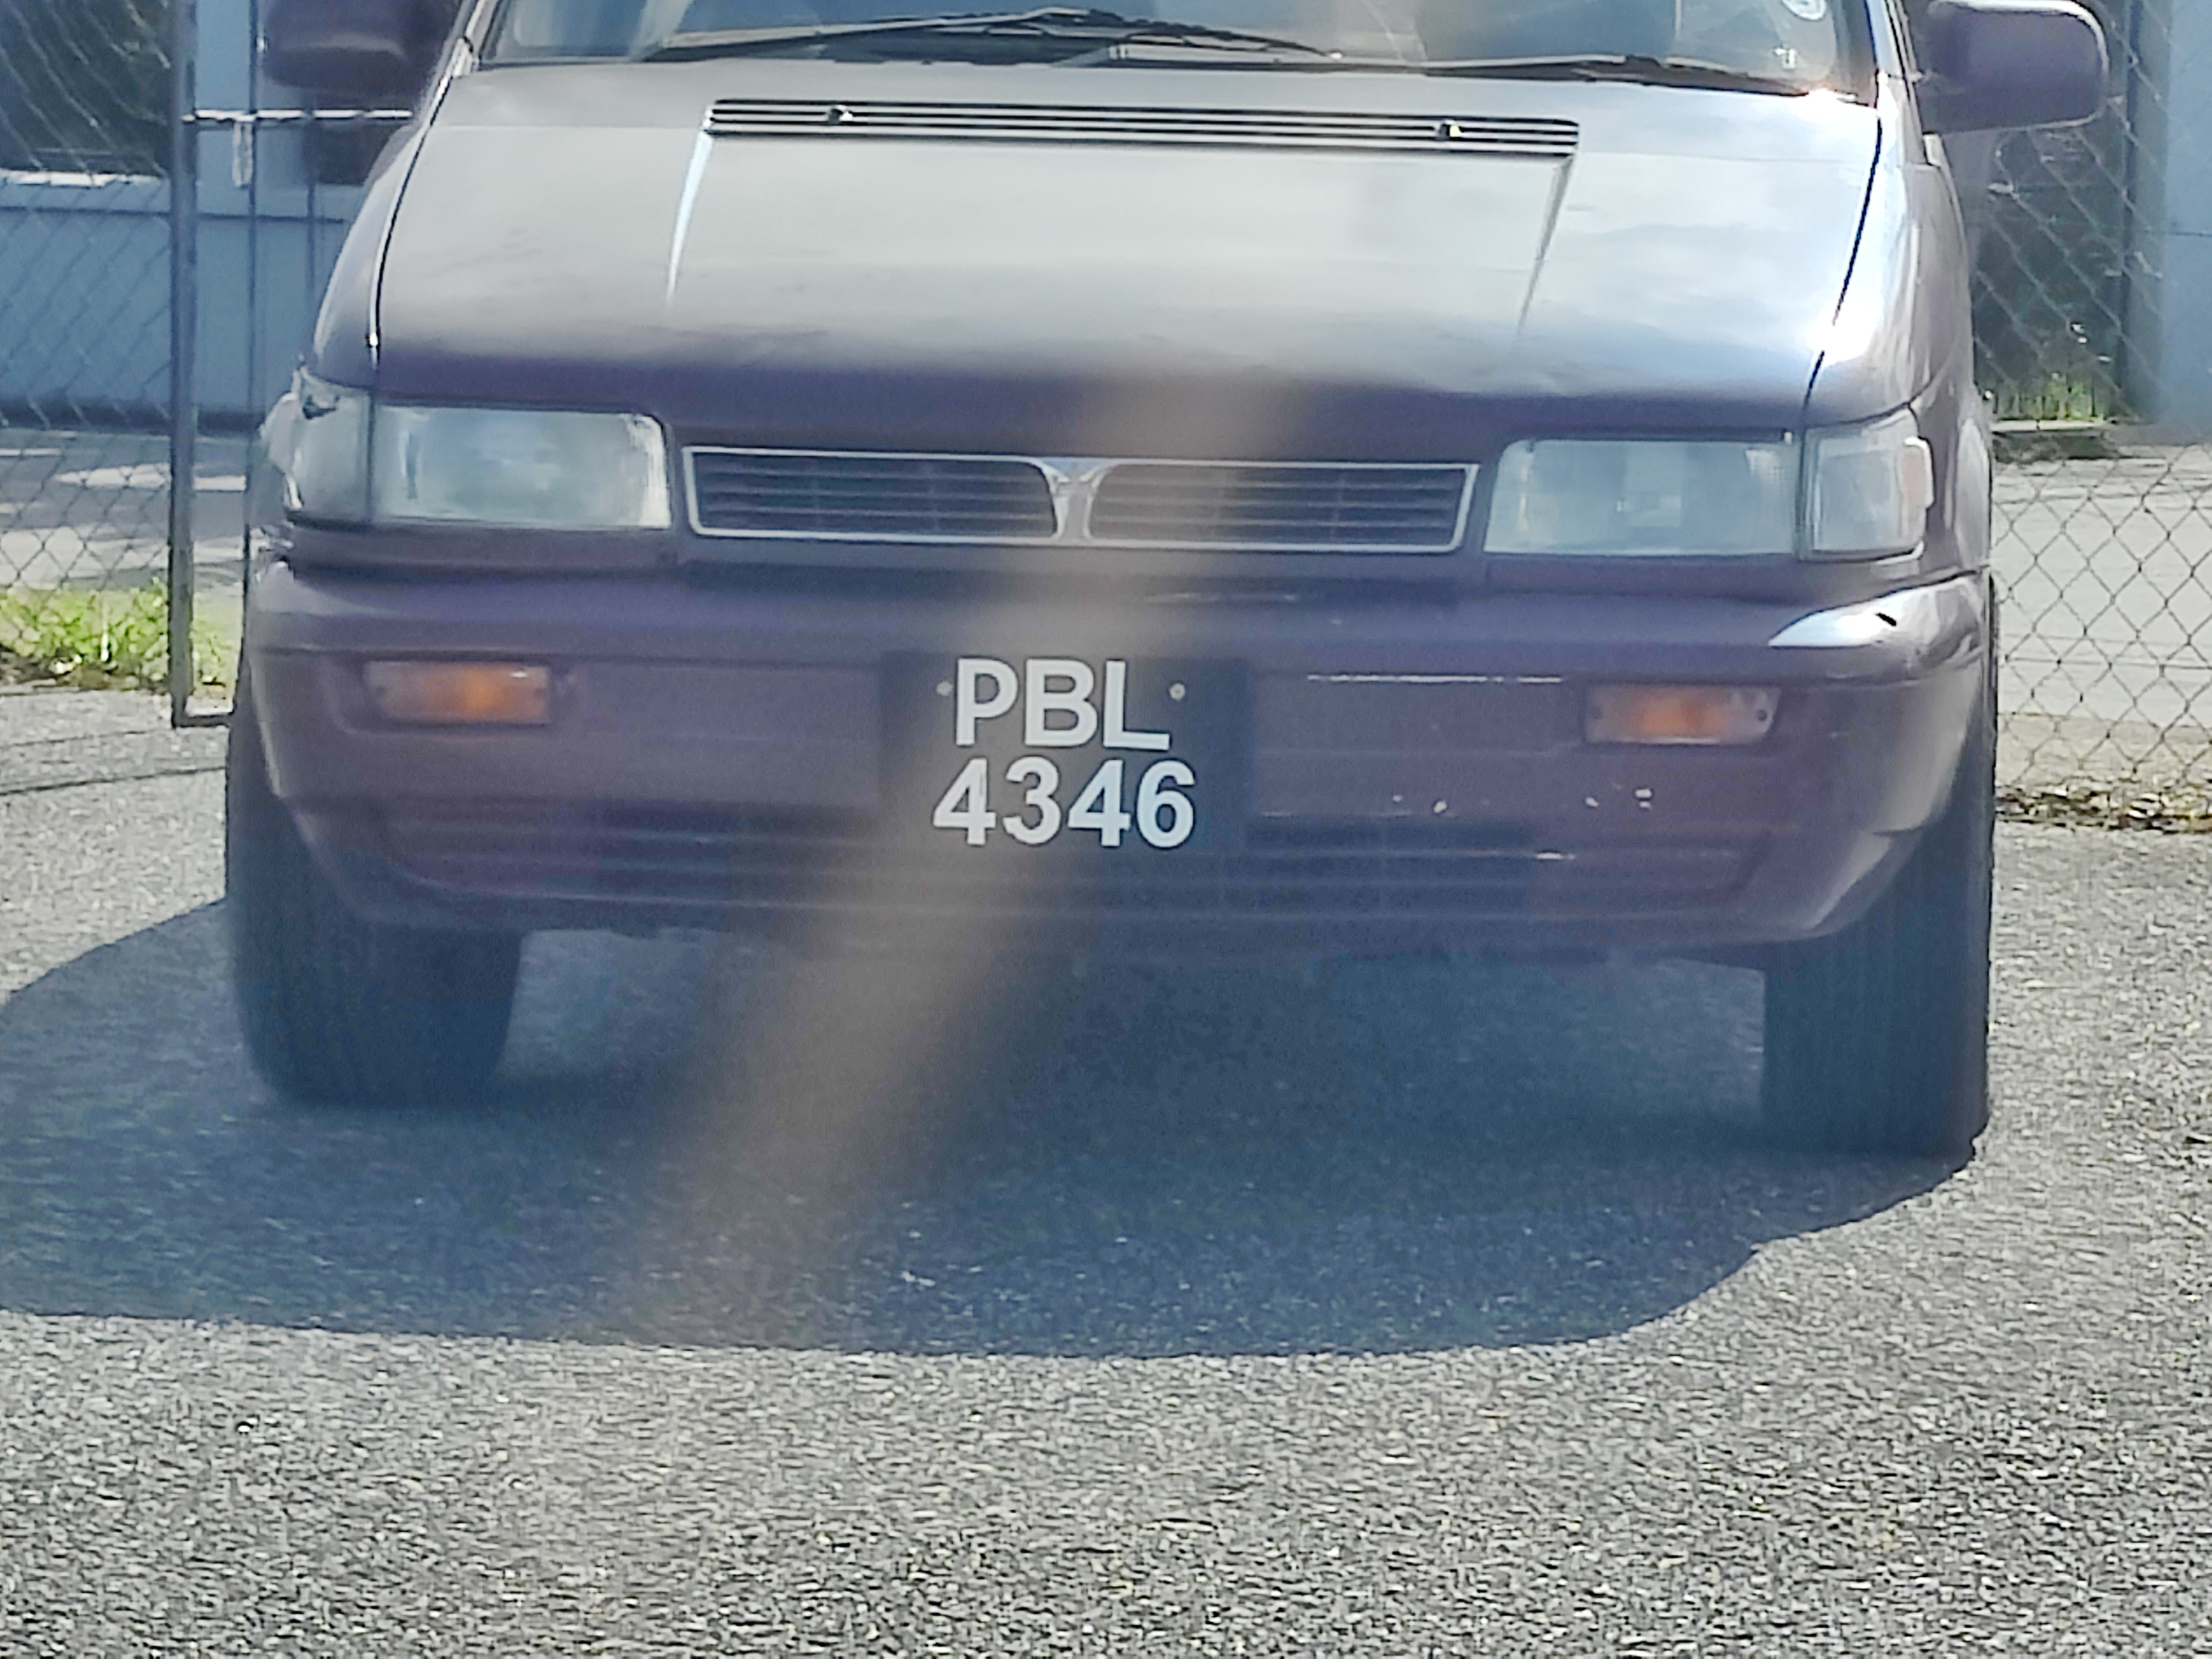License-Plate: (884, 646, 1252, 857)
